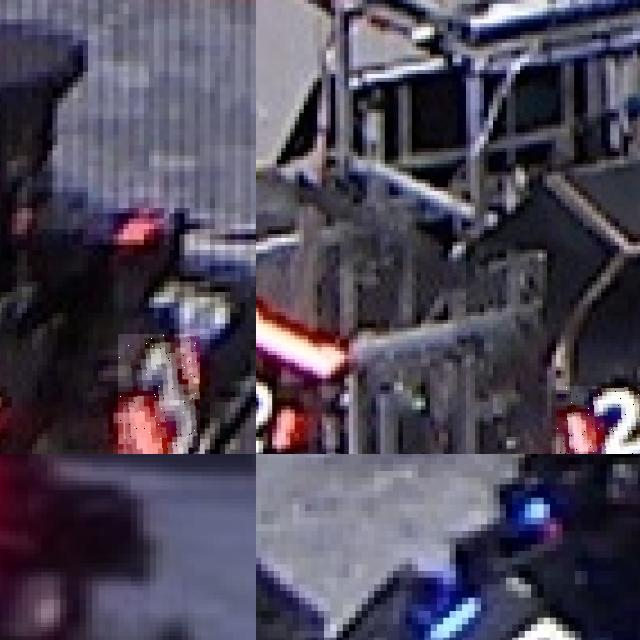R2: (556, 386, 640, 454), (256, 370, 294, 454)
R3: (118, 333, 199, 454)
